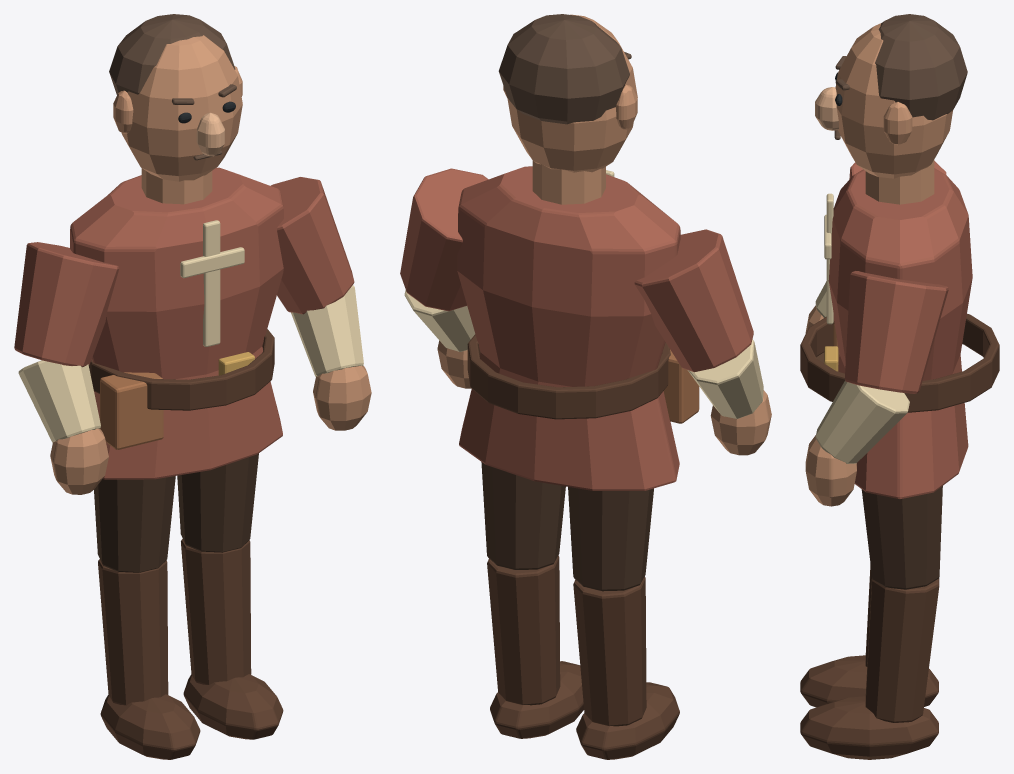
The model's file is carter_body.glb.
3 views of the same model, side by side, from view 1: azimuth 30°, elevation 25°; view 2: azimuth 150°, elevation 25°; view 3: azimuth 270°, elevation 25° (orthographic). The views are drawn at different scales.
Visible parts, largest first — view 1: carter_body__structure, carter_body__finish, carter_body__attachments; view 2: carter_body__structure, carter_body__finish, carter_body__attachments; view 3: carter_body__structure, carter_body__finish.
Boxes of the visible parts, x1,y1,x2,y2 form: carter_body__structure: [14, 35, 363, 705]; carter_body__finish: [50, 14, 371, 759]; carter_body__attachments: [100, 372, 163, 449]; carter_body__structure: [400, 14, 763, 726]; carter_body__finish: [437, 14, 771, 759]; carter_body__attachments: [663, 349, 699, 423]; carter_body__structure: [815, 23, 972, 722]; carter_body__finish: [800, 14, 999, 759].
Size of the model in its own units: 0.9568 by 1.95 by 0.494.
